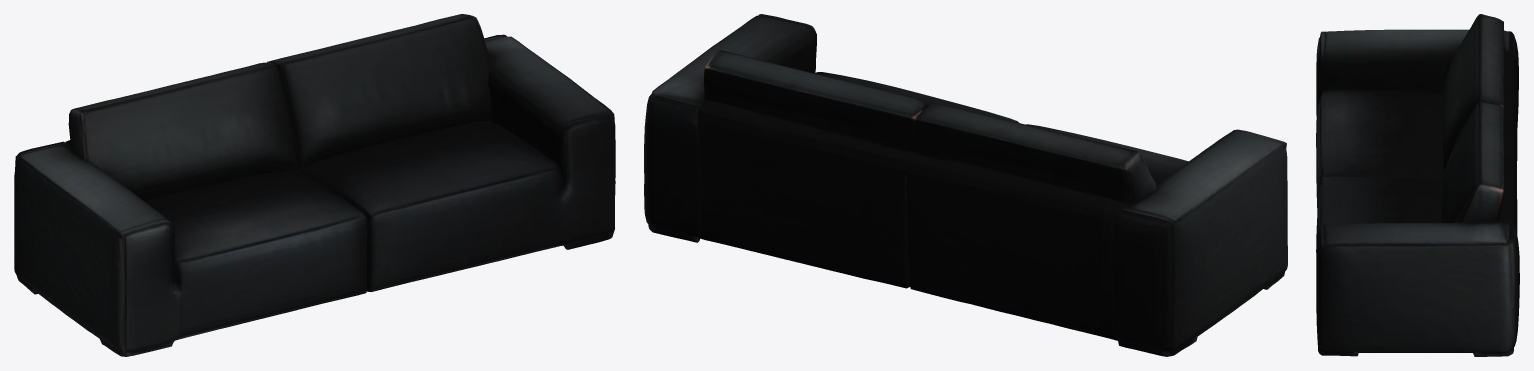
File: ast_778c2ec0480d.glb
The picture shows the model from 3 angles, left to right: view 1: azimuth 30°, elevation 25°; view 2: azimuth 150°, elevation 25°; view 3: azimuth 270°, elevation 25°; orthographic projection. The views are drawn at different scales.
Visible parts, largest first — view 1: geometry_0; view 2: geometry_0; view 3: geometry_0.
Boxes of the visible parts, x1,y1,x2,y2 form: geometry_0: (14,14,615,356); geometry_0: (644,14,1287,356); geometry_0: (1316,14,1519,356).
Size of the model in its own units: 0.9999 by 0.3209 by 0.3939.
1 material, 1 textured.
